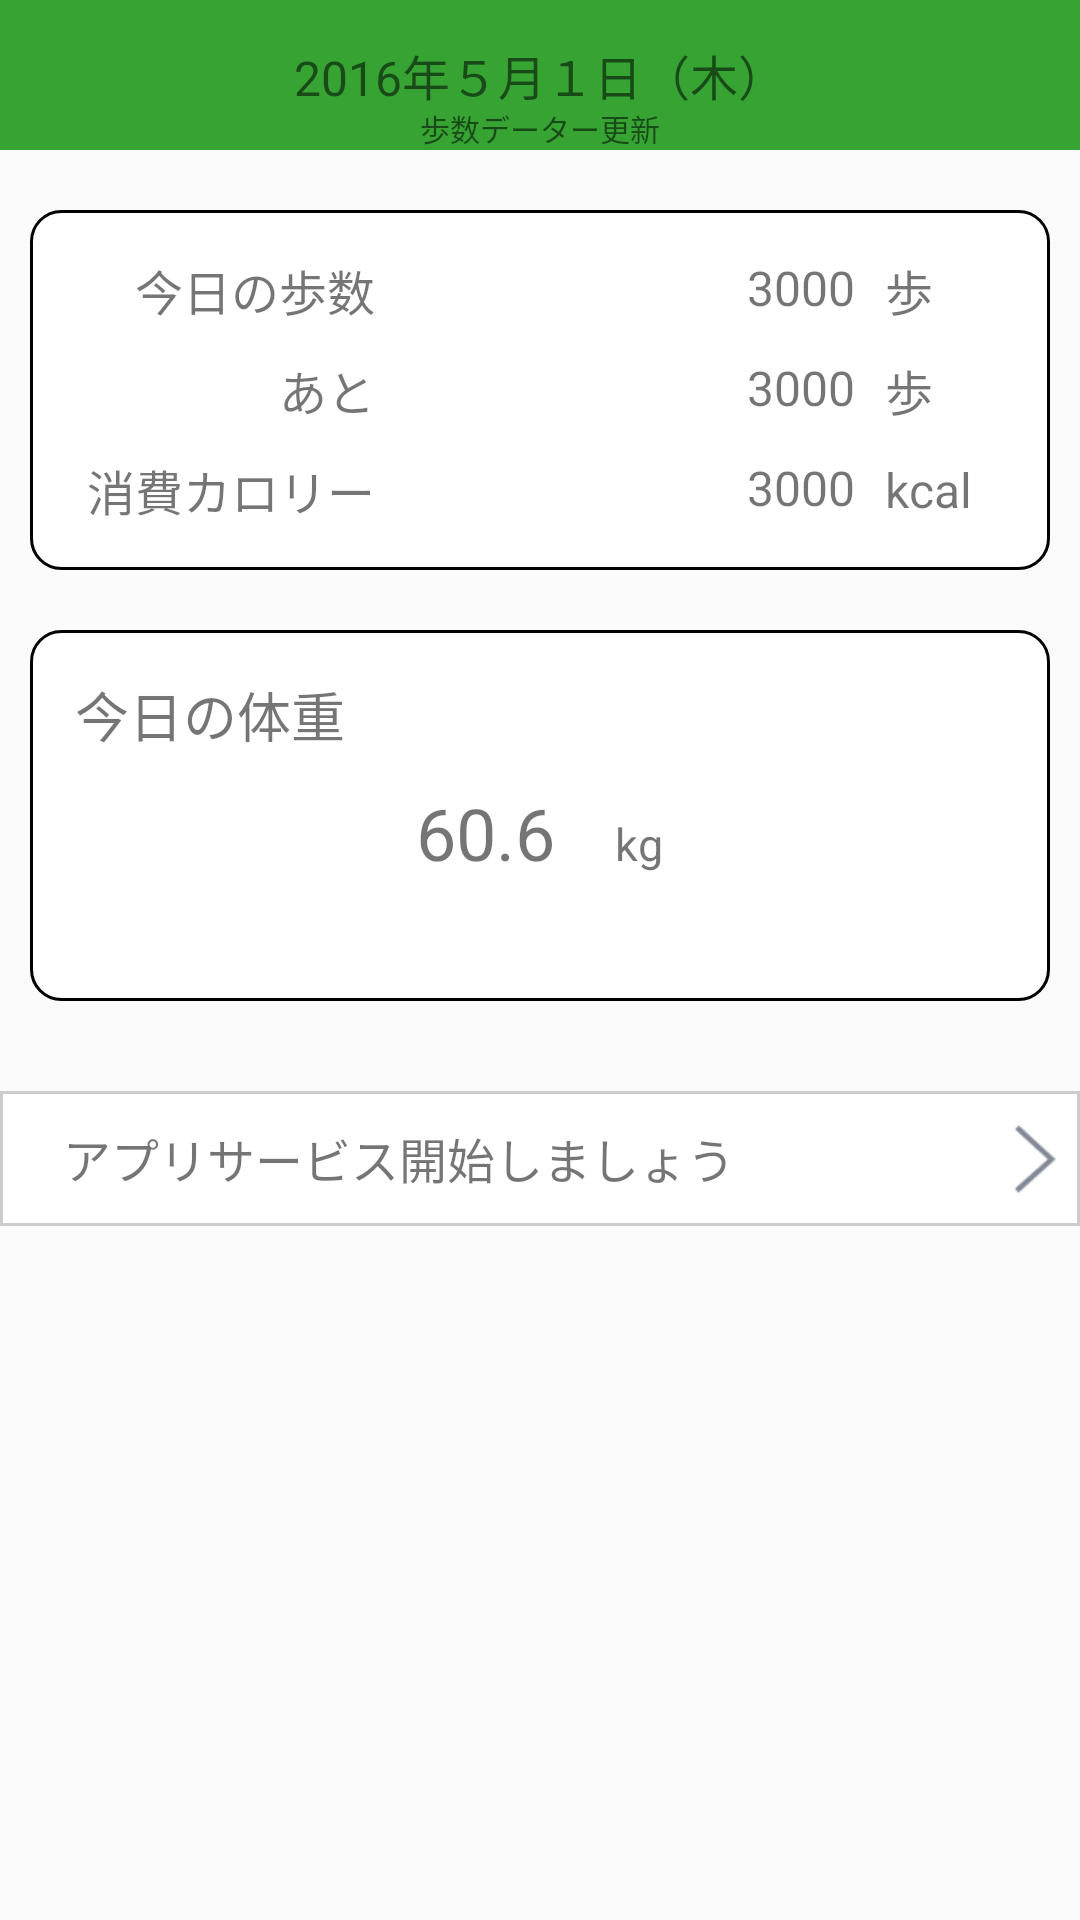

Named icons in this screenshot (1080w x 1920h) and their bounding boxes, detection(x1, y1, x2, y2):
arrow right: detection(1015, 1125, 1056, 1193)
